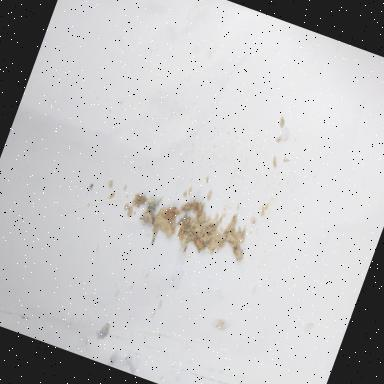pbw: (228, 243, 248, 264), (176, 214, 192, 240), (162, 204, 182, 223), (194, 200, 209, 222), (190, 234, 208, 252), (182, 197, 200, 215), (200, 220, 217, 237), (132, 191, 148, 208), (224, 231, 240, 248)
